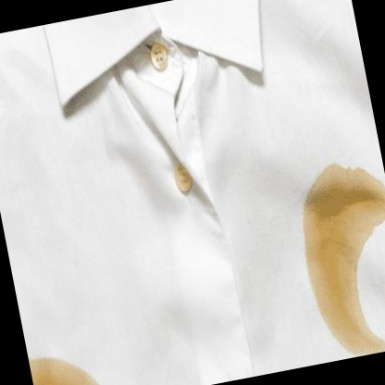coffee: (303, 173, 383, 242), (308, 249, 362, 335), (31, 361, 83, 385)
